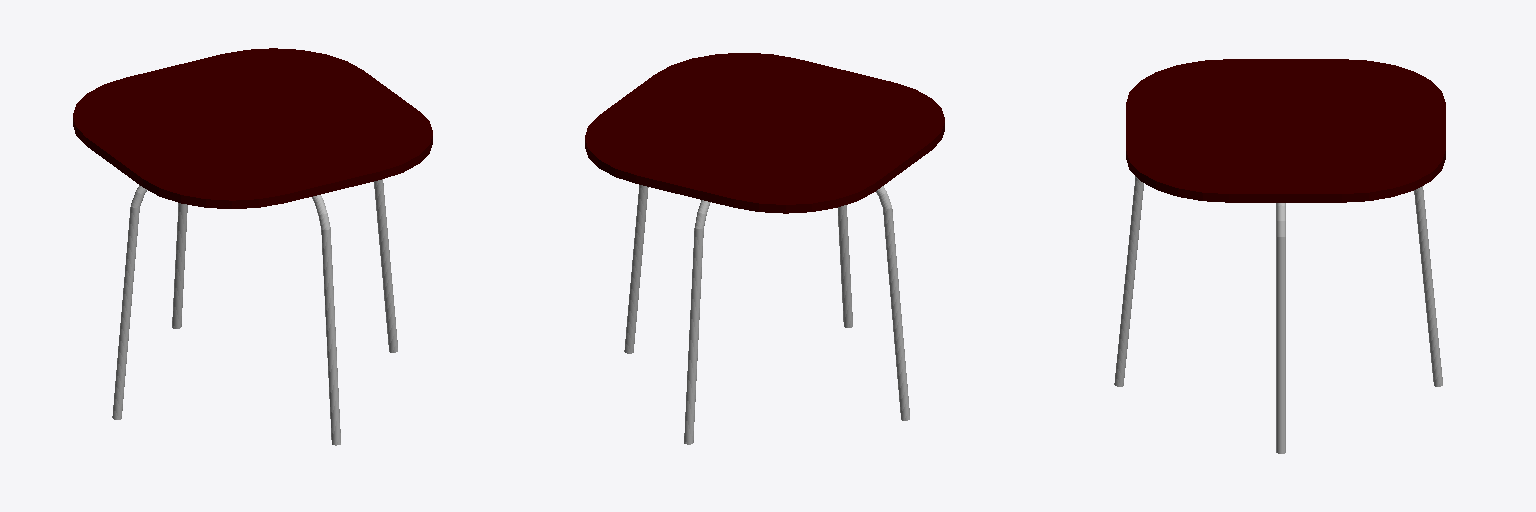
Rendered from fusion_table_1_obj0_object.obj.
3 renders of one model, left to right at view 1: azimuth 30°, elevation 25°; view 2: azimuth 150°, elevation 25°; view 3: azimuth 270°, elevation 25°, orthographic.
Parts seen in each view (by area): view 1: Mesh1 tabletop fusion_table1 Model, Mesh2 Group1 table_leg fusion_table1 Model, Mesh3 Group_19_1 table_leg fusion_table1 Model; view 2: Mesh1 tabletop fusion_table1 Model, Mesh2 Group1 table_leg fusion_table1 Model, Mesh3 Group_19_1 table_leg fusion_table1 Model; view 3: Mesh1 tabletop fusion_table1 Model, Mesh3 Group_19_1 table_leg fusion_table1 Model, Mesh2 Group1 table_leg fusion_table1 Model.
Part boxes in pixels (x1,y1,x2,y2): Mesh1 tabletop fusion_table1 Model: (73, 48, 432, 208); Mesh2 Group1 table_leg fusion_table1 Model: (112, 179, 397, 419); Mesh3 Group_19_1 table_leg fusion_table1 Model: (172, 195, 340, 445); Mesh1 tabletop fusion_table1 Model: (585, 53, 944, 213); Mesh2 Group1 table_leg fusion_table1 Model: (624, 185, 909, 420); Mesh3 Group_19_1 table_leg fusion_table1 Model: (684, 200, 852, 444); Mesh1 tabletop fusion_table1 Model: (1126, 59, 1445, 202); Mesh3 Group_19_1 table_leg fusion_table1 Model: (1114, 176, 1442, 386); Mesh2 Group1 table_leg fusion_table1 Model: (1276, 203, 1285, 453).
Size of the model in its own units: 34.05 by 29.55 by 34.3.